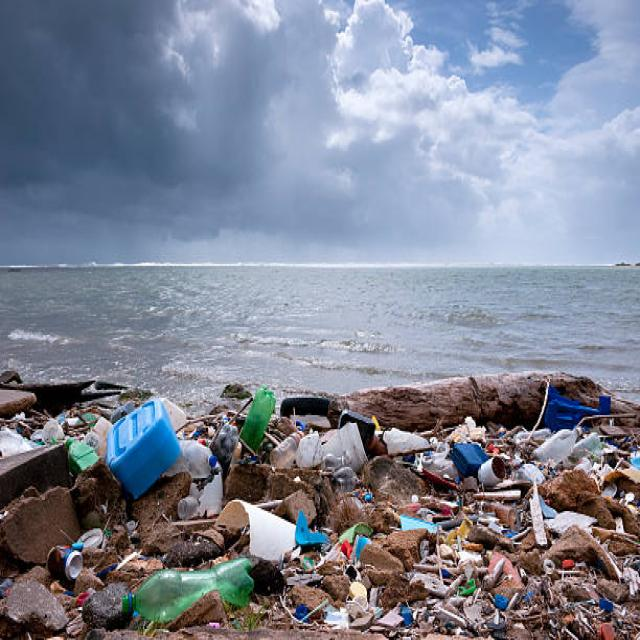plastic: (216, 380, 372, 464), (439, 436, 548, 541), (129, 547, 257, 612), (105, 412, 184, 486)
